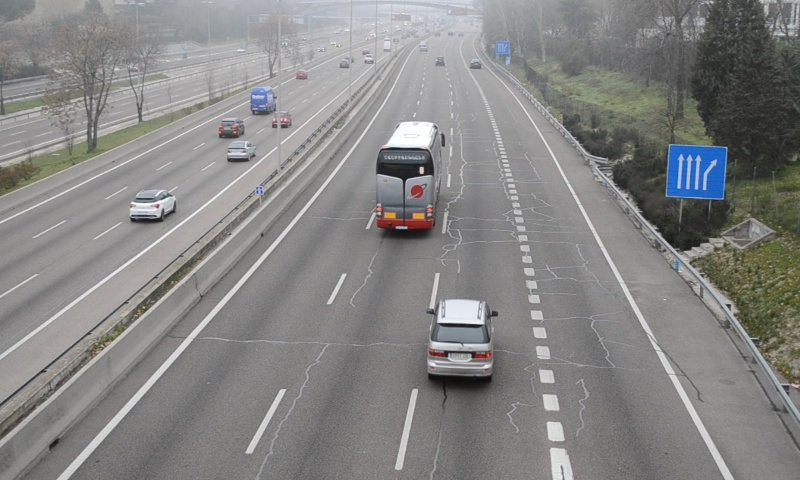bus: (374, 121, 442, 232)
car: (424, 298, 496, 383)
